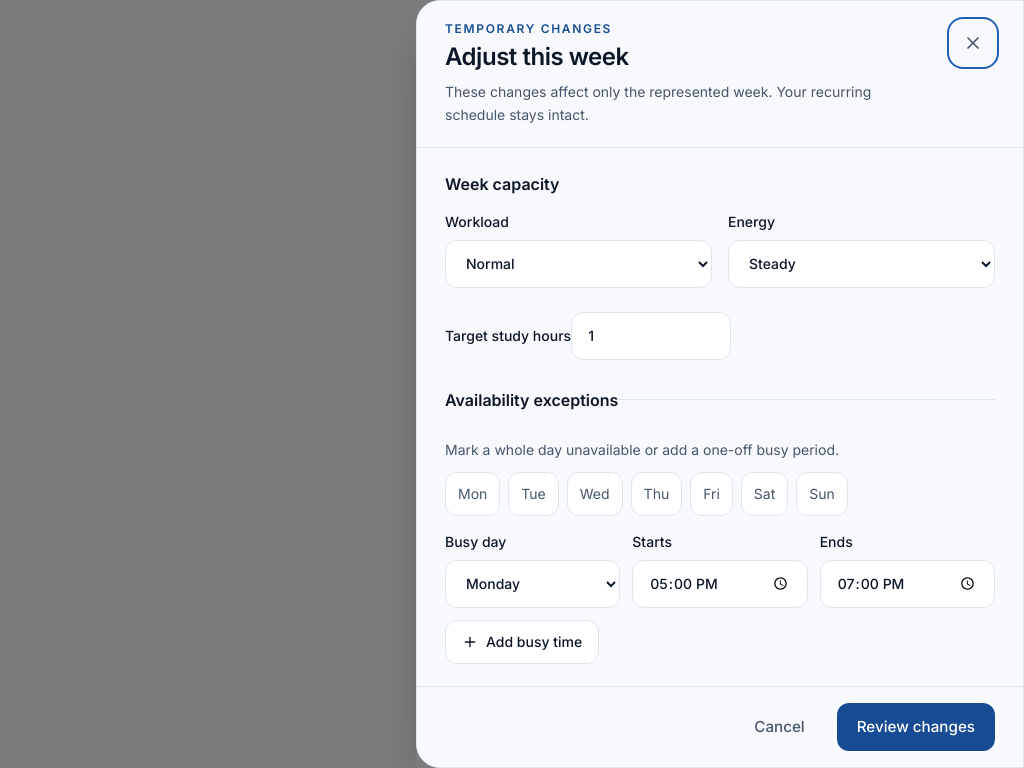
Test: WeekAdjuster review safety › keeps the current plan when a draft would generate zero blocks
The width and height of the screenshot is (1024, 768).
Click the button "Review changes".
click(916, 727)  # box [837, 703, 995, 751]
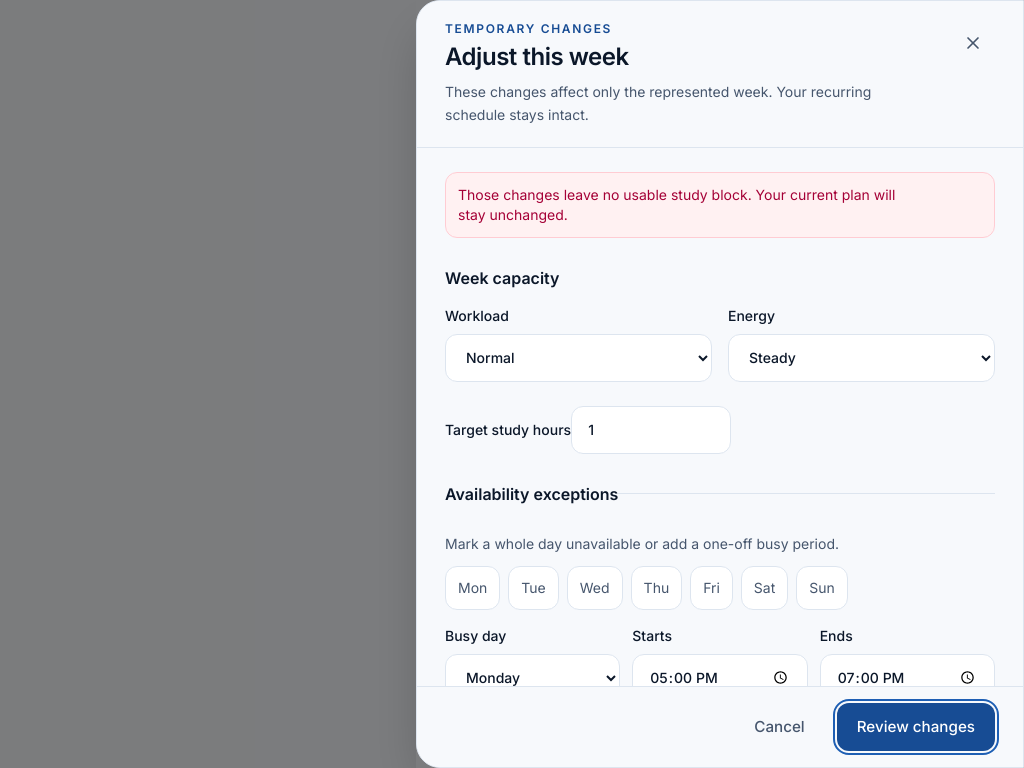
Expected: the text "Those changes leave no usable study block. Your current plan will stay unchanged." is shown, [458, 186, 895, 222]
